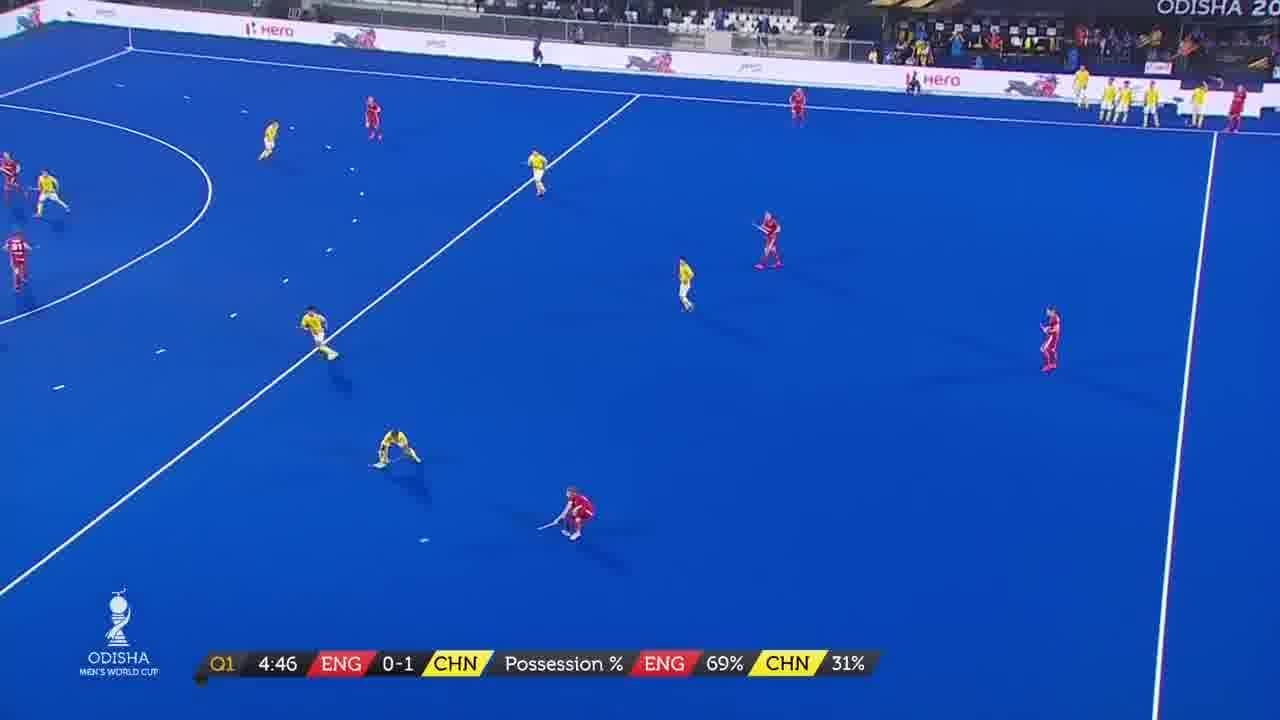ball: (411, 528, 436, 550)
